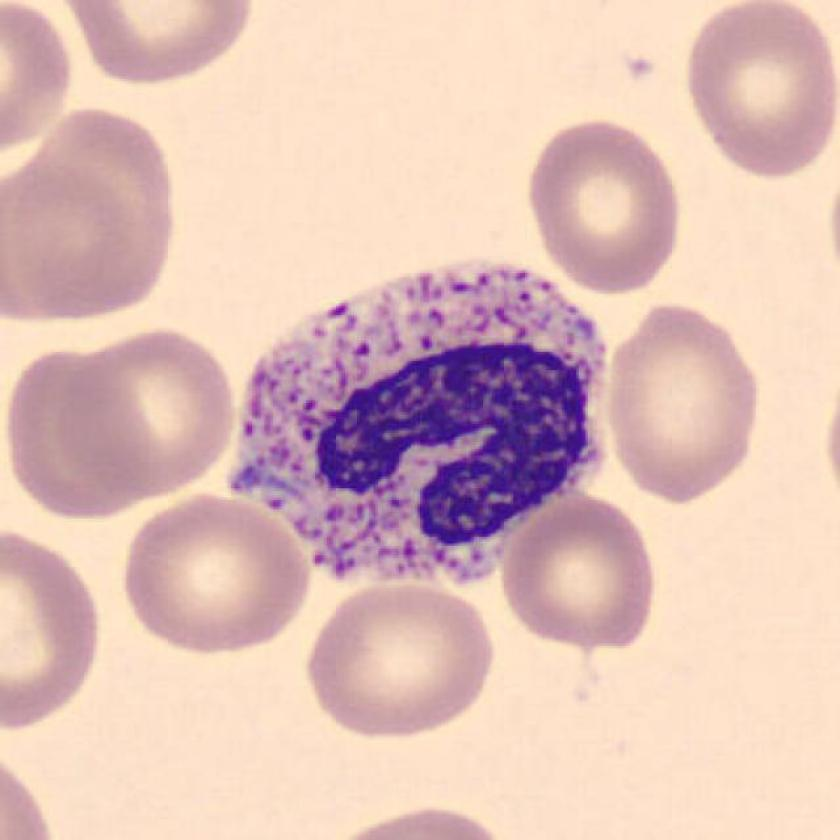neutrophil: (237, 262, 610, 585)
